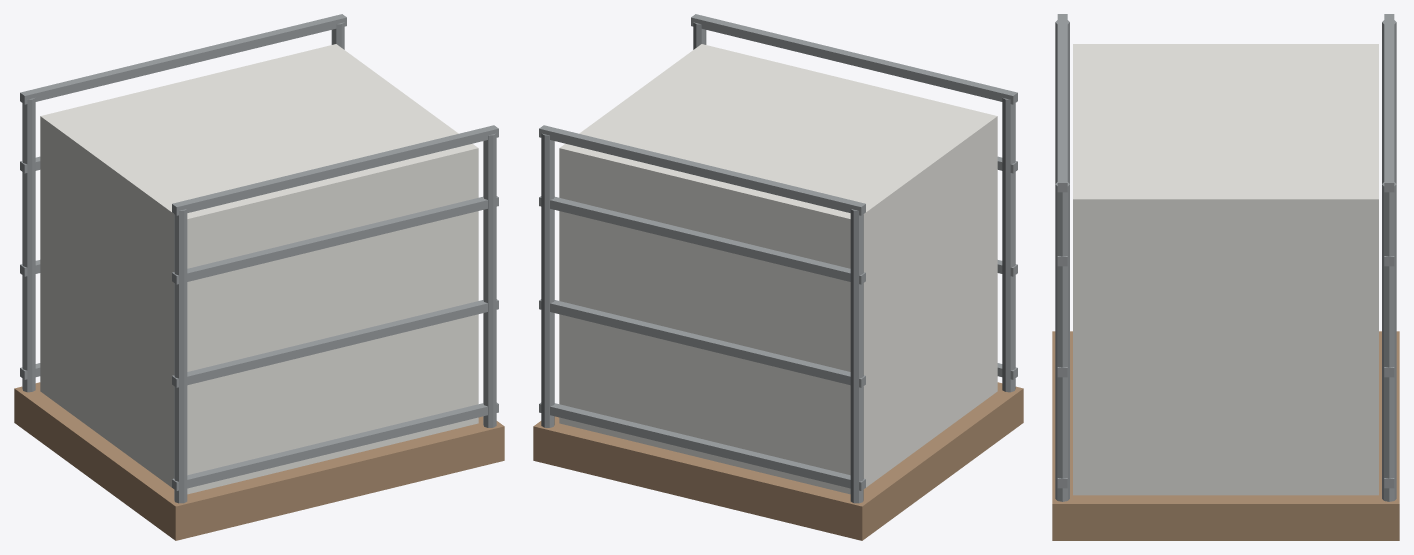
Rendered from ibc_tank_03.glb.
The picture shows the model from 3 angles, left to right: view 1: azimuth 30°, elevation 25°; view 2: azimuth 150°, elevation 25°; view 3: azimuth 270°, elevation 25°; orthographic projection. The views are drawn at different scales.
Visible parts, largest first — view 1: tank, pallet, railx20.95, railx0.95, railx0.45, railx0.15, railx0.75, post-0.470.4, post-0.47-0.4, post0.470.4; view 2: tank, pallet, railx0.95, railx20.95, railx20.45, railx20.15, railx20.75, post-0.47-0.4, post-0.470.4, post0.47-0.4; view 3: tank, pallet, post0.47-0.4, post0.470.4, railx0.95, railx20.95, post-0.47-0.4, post-0.470.4.
Boxes of the visible parts, x1,y1,x2,y2 form: tank: (40, 44, 478, 494); pallet: (14, 382, 504, 540); railx20.95: (20, 14, 346, 104); railx0.95: (172, 125, 498, 215); railx0.45: (172, 299, 498, 387); railx0.15: (172, 402, 498, 490); railx0.75: (172, 196, 498, 284); post-0.470.4: (174, 209, 187, 503); post-0.47-0.4: (22, 98, 35, 392); post0.470.4: (483, 133, 496, 427); tank: (559, 44, 997, 494); pallet: (533, 382, 1023, 540); railx0.95: (691, 14, 1017, 104); railx20.95: (539, 125, 865, 215); railx20.45: (539, 299, 865, 387); railx20.15: (539, 402, 865, 490); railx20.75: (539, 196, 865, 284); post-0.47-0.4: (850, 209, 863, 503); post-0.470.4: (1002, 98, 1015, 392); post0.47-0.4: (541, 133, 554, 427); tank: (1073, 44, 1378, 495); pallet: (1052, 331, 1399, 540); post0.47-0.4: (1382, 182, 1396, 501); post0.470.4: (1055, 182, 1069, 501); railx0.95: (1057, 14, 1067, 192); railx20.95: (1384, 14, 1394, 192); post-0.47-0.4: (1382, 20, 1396, 183); post-0.470.4: (1055, 20, 1069, 183).
Bounding box in the file's own units: 1 × 0.9625 × 0.85.
